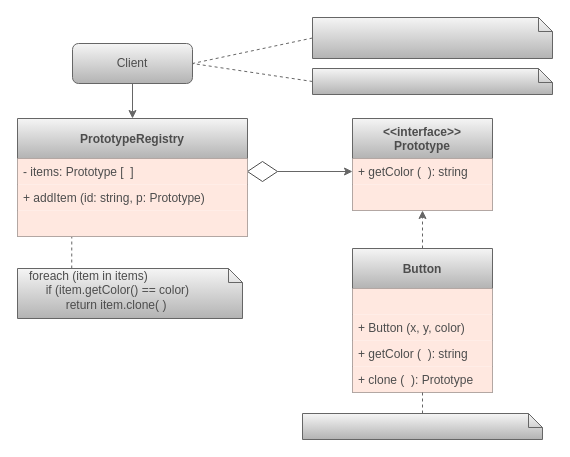
Some shapes in this 570 by 457 pixel diagram are drawn without their labels. Each missing label, with the centre of its shape:
+ clone( ): Prototype: point 422,197
+ getColorById (color: string): Prototype: point 132,223
- x, y, color: point 422,301
button = new Button (10, 40, "red"): point 432,81
button = new Button (10, 40, "red") registry.addItem("LandingButton", button): point 432,37
return new Button( this ): point 422,426
